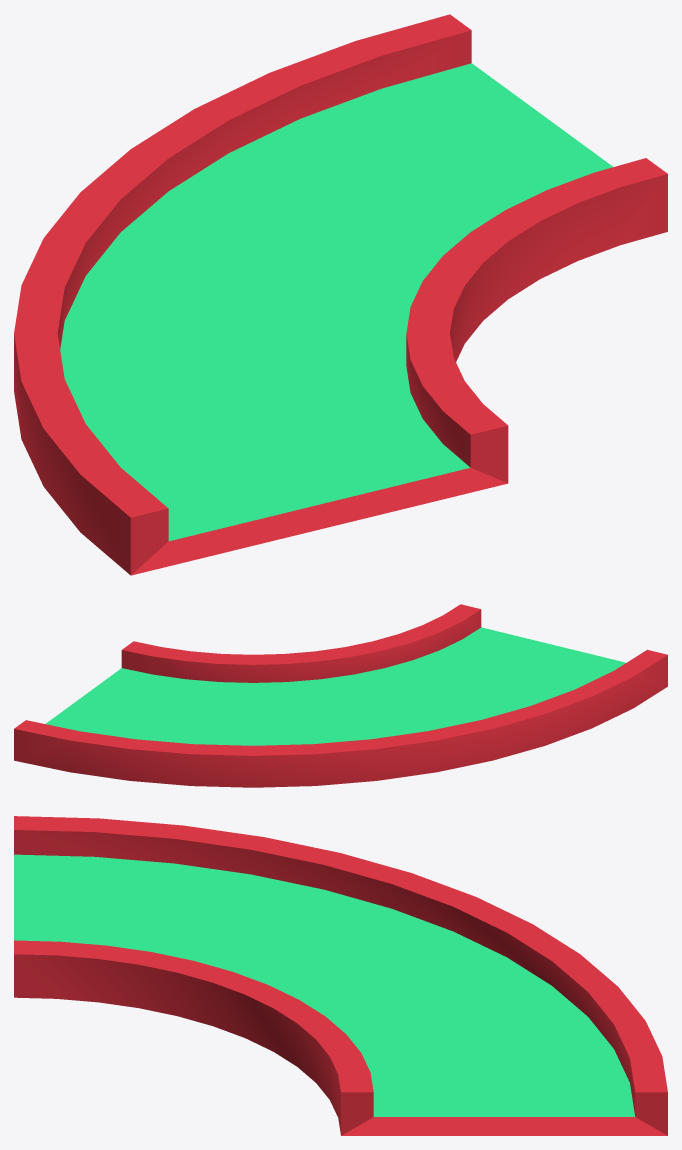
File: roundLargeCorner.fbx
3 views of the same model, one above another, from view 1: azimuth 30°, elevation 25°; view 2: azimuth 150°, elevation 25°; view 3: azimuth 270°, elevation 25° (orthographic). The views are drawn at different scales.
Parts seen in each view (by area): view 1: roundLargeCorner; view 2: roundLargeCorner; view 3: roundLargeCorner.
Boxes of the visible parts, box(x1,y1,x2,y2) form: roundLargeCorner: box(14, 14, 667, 575); roundLargeCorner: box(14, 604, 667, 787); roundLargeCorner: box(14, 816, 667, 1135).
Size of the model in its own units: 200 by 200 by 14.67.
